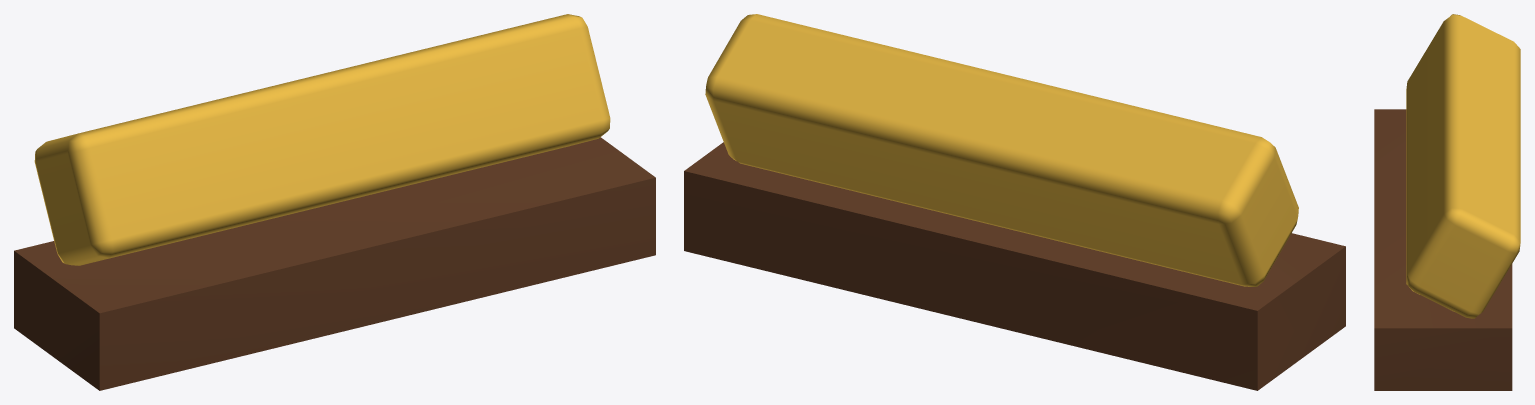
The model's file is furn_nameplate.glb.
3 renders of one model, left to right at view 1: azimuth 30°, elevation 25°; view 2: azimuth 150°, elevation 25°; view 3: azimuth 270°, elevation 25°, orthographic. The views are drawn at different scales.
Parts seen in each view (by area): view 1: furn_nameplate_main, furn_nameplate_gloss; view 2: furn_nameplate_gloss, furn_nameplate_main; view 3: furn_nameplate_gloss, furn_nameplate_main.
Part boxes in pixels (<box>): furn_nameplate_main: <box>14,137,655,390</box>; furn_nameplate_gloss: <box>34,14,610,265</box>; furn_nameplate_gloss: <box>705,14,1298,286</box>; furn_nameplate_main: <box>684,142,1345,390</box>; furn_nameplate_gloss: <box>1406,14,1520,318</box>; furn_nameplate_main: <box>1374,109,1512,390</box>.
Size of the model in its own units: 0.3 by 0.1085 by 0.0848.
